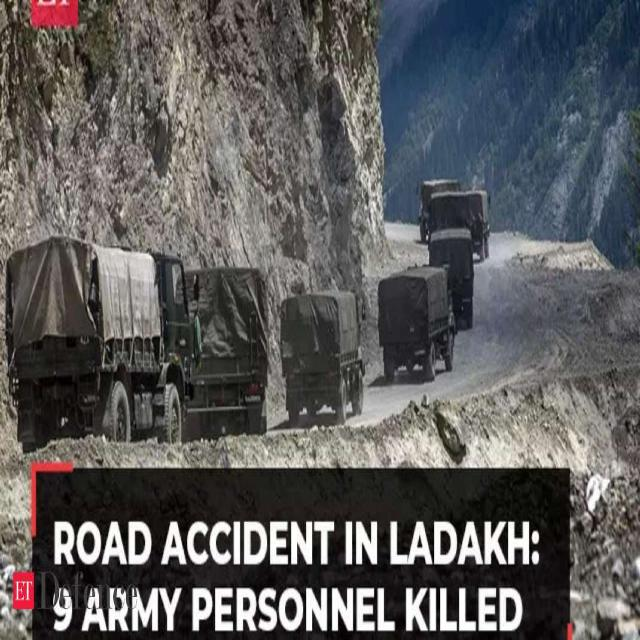truck: (6, 238, 194, 451), (182, 268, 268, 438), (282, 291, 364, 423), (379, 268, 456, 382)
